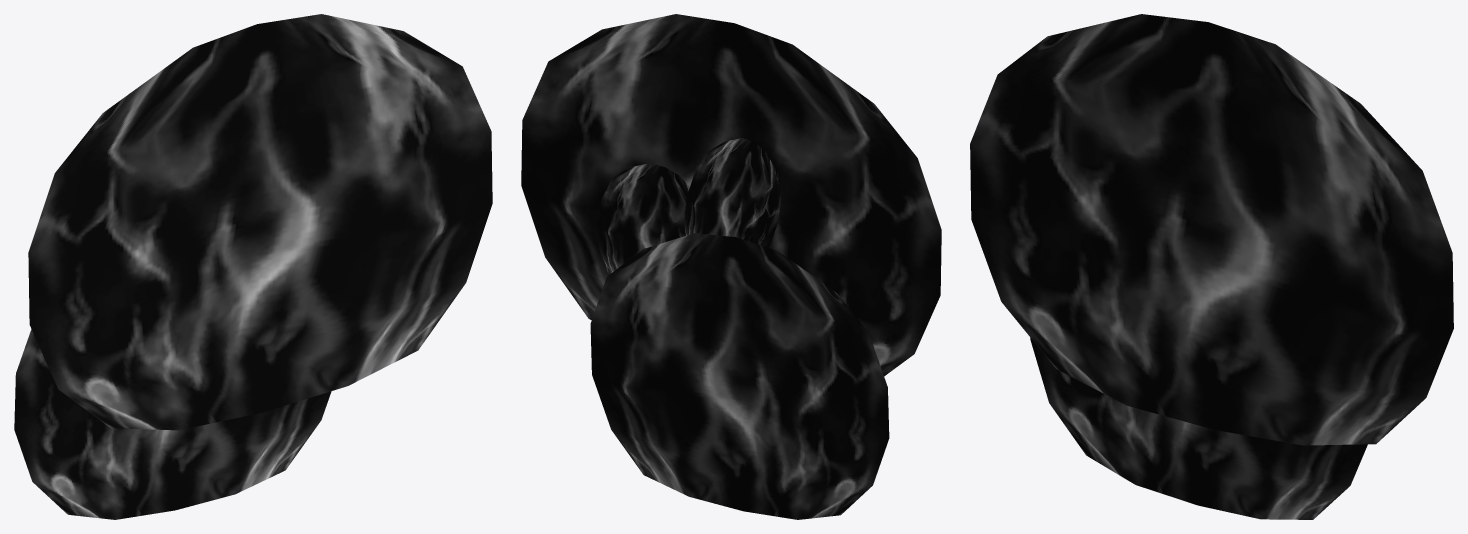
File: CA_Lord_94.fbx
The picture shows the model from 3 angles, left to right: view 1: azimuth 30°, elevation 25°; view 2: azimuth 150°, elevation 25°; view 3: azimuth 330°, elevation 25°; orthographic projection. The views are drawn at different scales.
Visible parts, largest first — view 1: Mesh_Aura01, Mesh_Aura03; view 2: Mesh_Aura01, Mesh_Aura03, Mesh_Aura01_2, Mesh_Aura01_1; view 3: Mesh_Aura01, Mesh_Aura03.
Part boxes in pixels (x1,y1,x2,y2): Mesh_Aura01: [28, 14, 492, 430]; Mesh_Aura03: [14, 329, 331, 519]; Mesh_Aura01: [521, 14, 941, 376]; Mesh_Aura03: [590, 233, 889, 519]; Mesh_Aura01_2: [684, 138, 781, 247]; Mesh_Aura01_1: [597, 163, 689, 274]; Mesh_Aura01: [970, 14, 1453, 445]; Mesh_Aura03: [1030, 338, 1367, 519].
Size of the model in its own units: 820 by 846 by 110.
